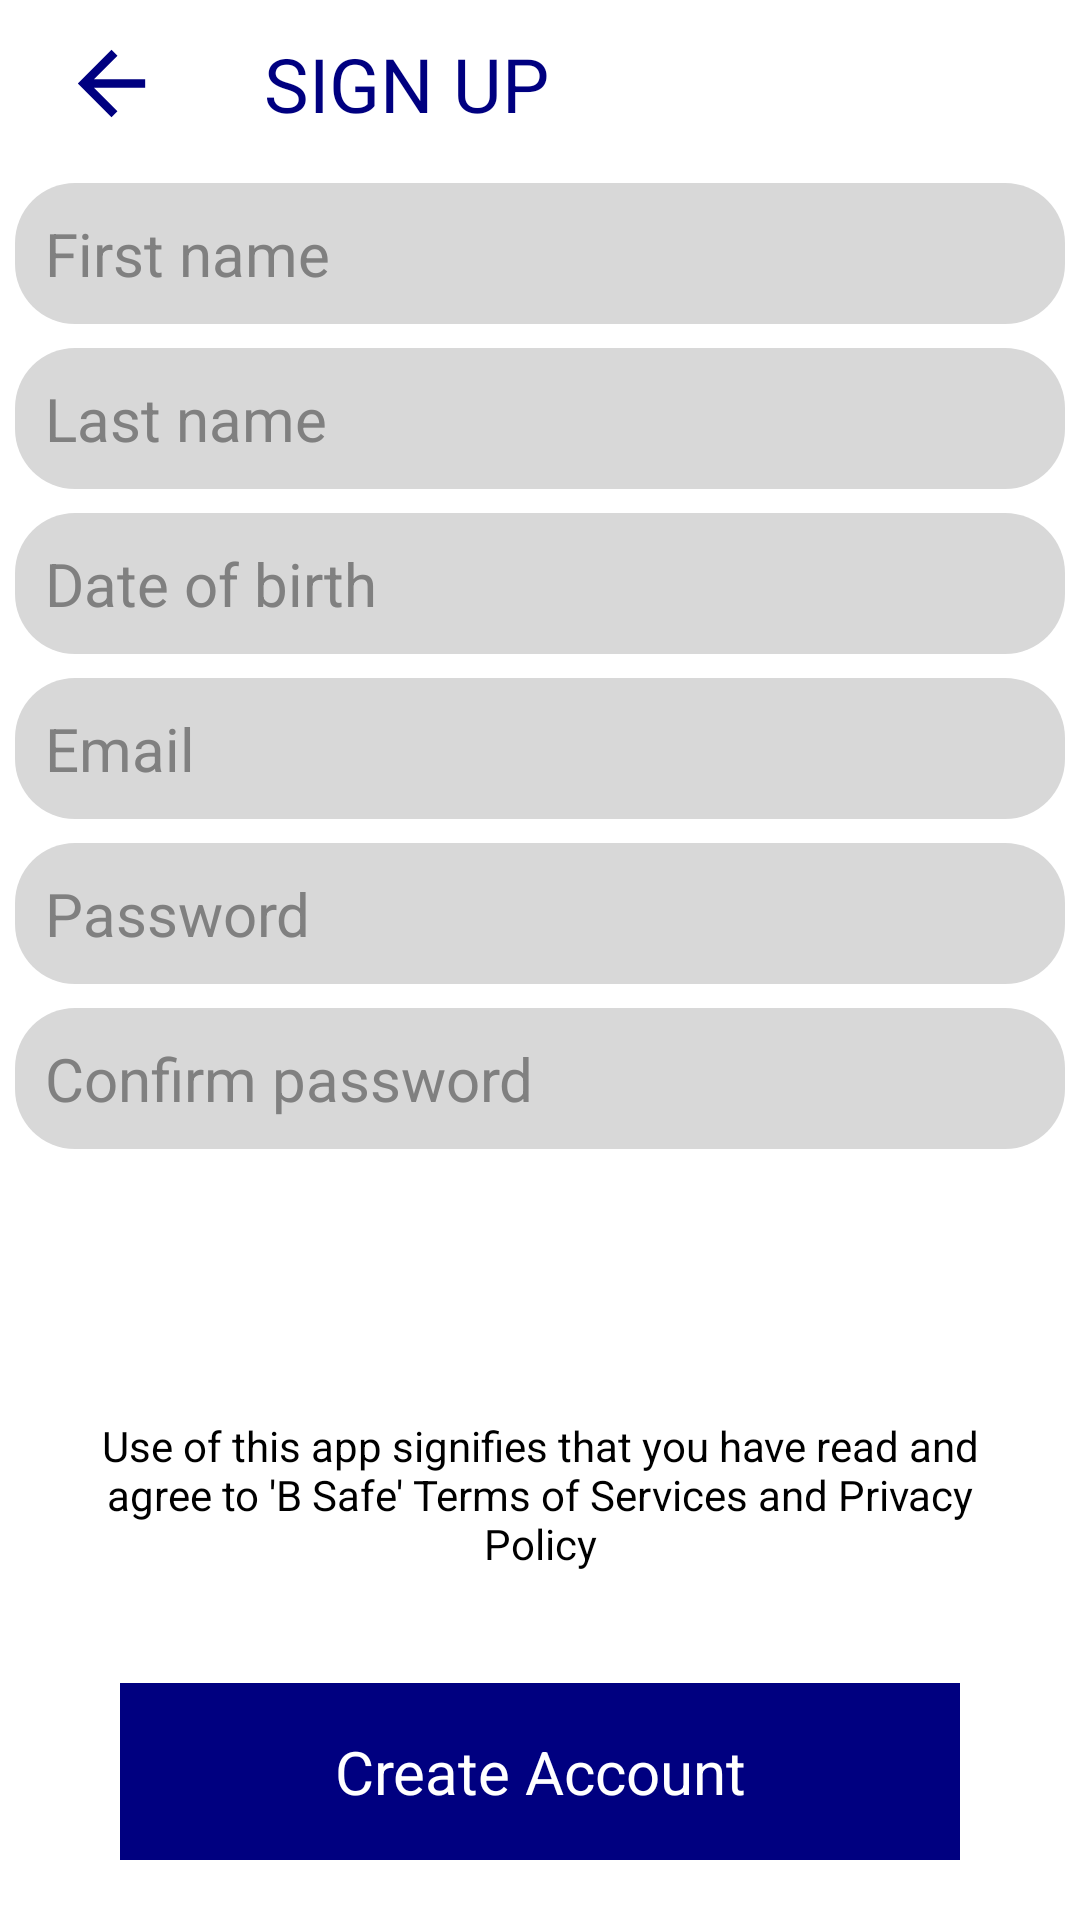

Where icons sit on this 1080×1920 app screen, as BBox(x1, y1, x2, y2):
arrow back: BBox(78, 50, 146, 117)
